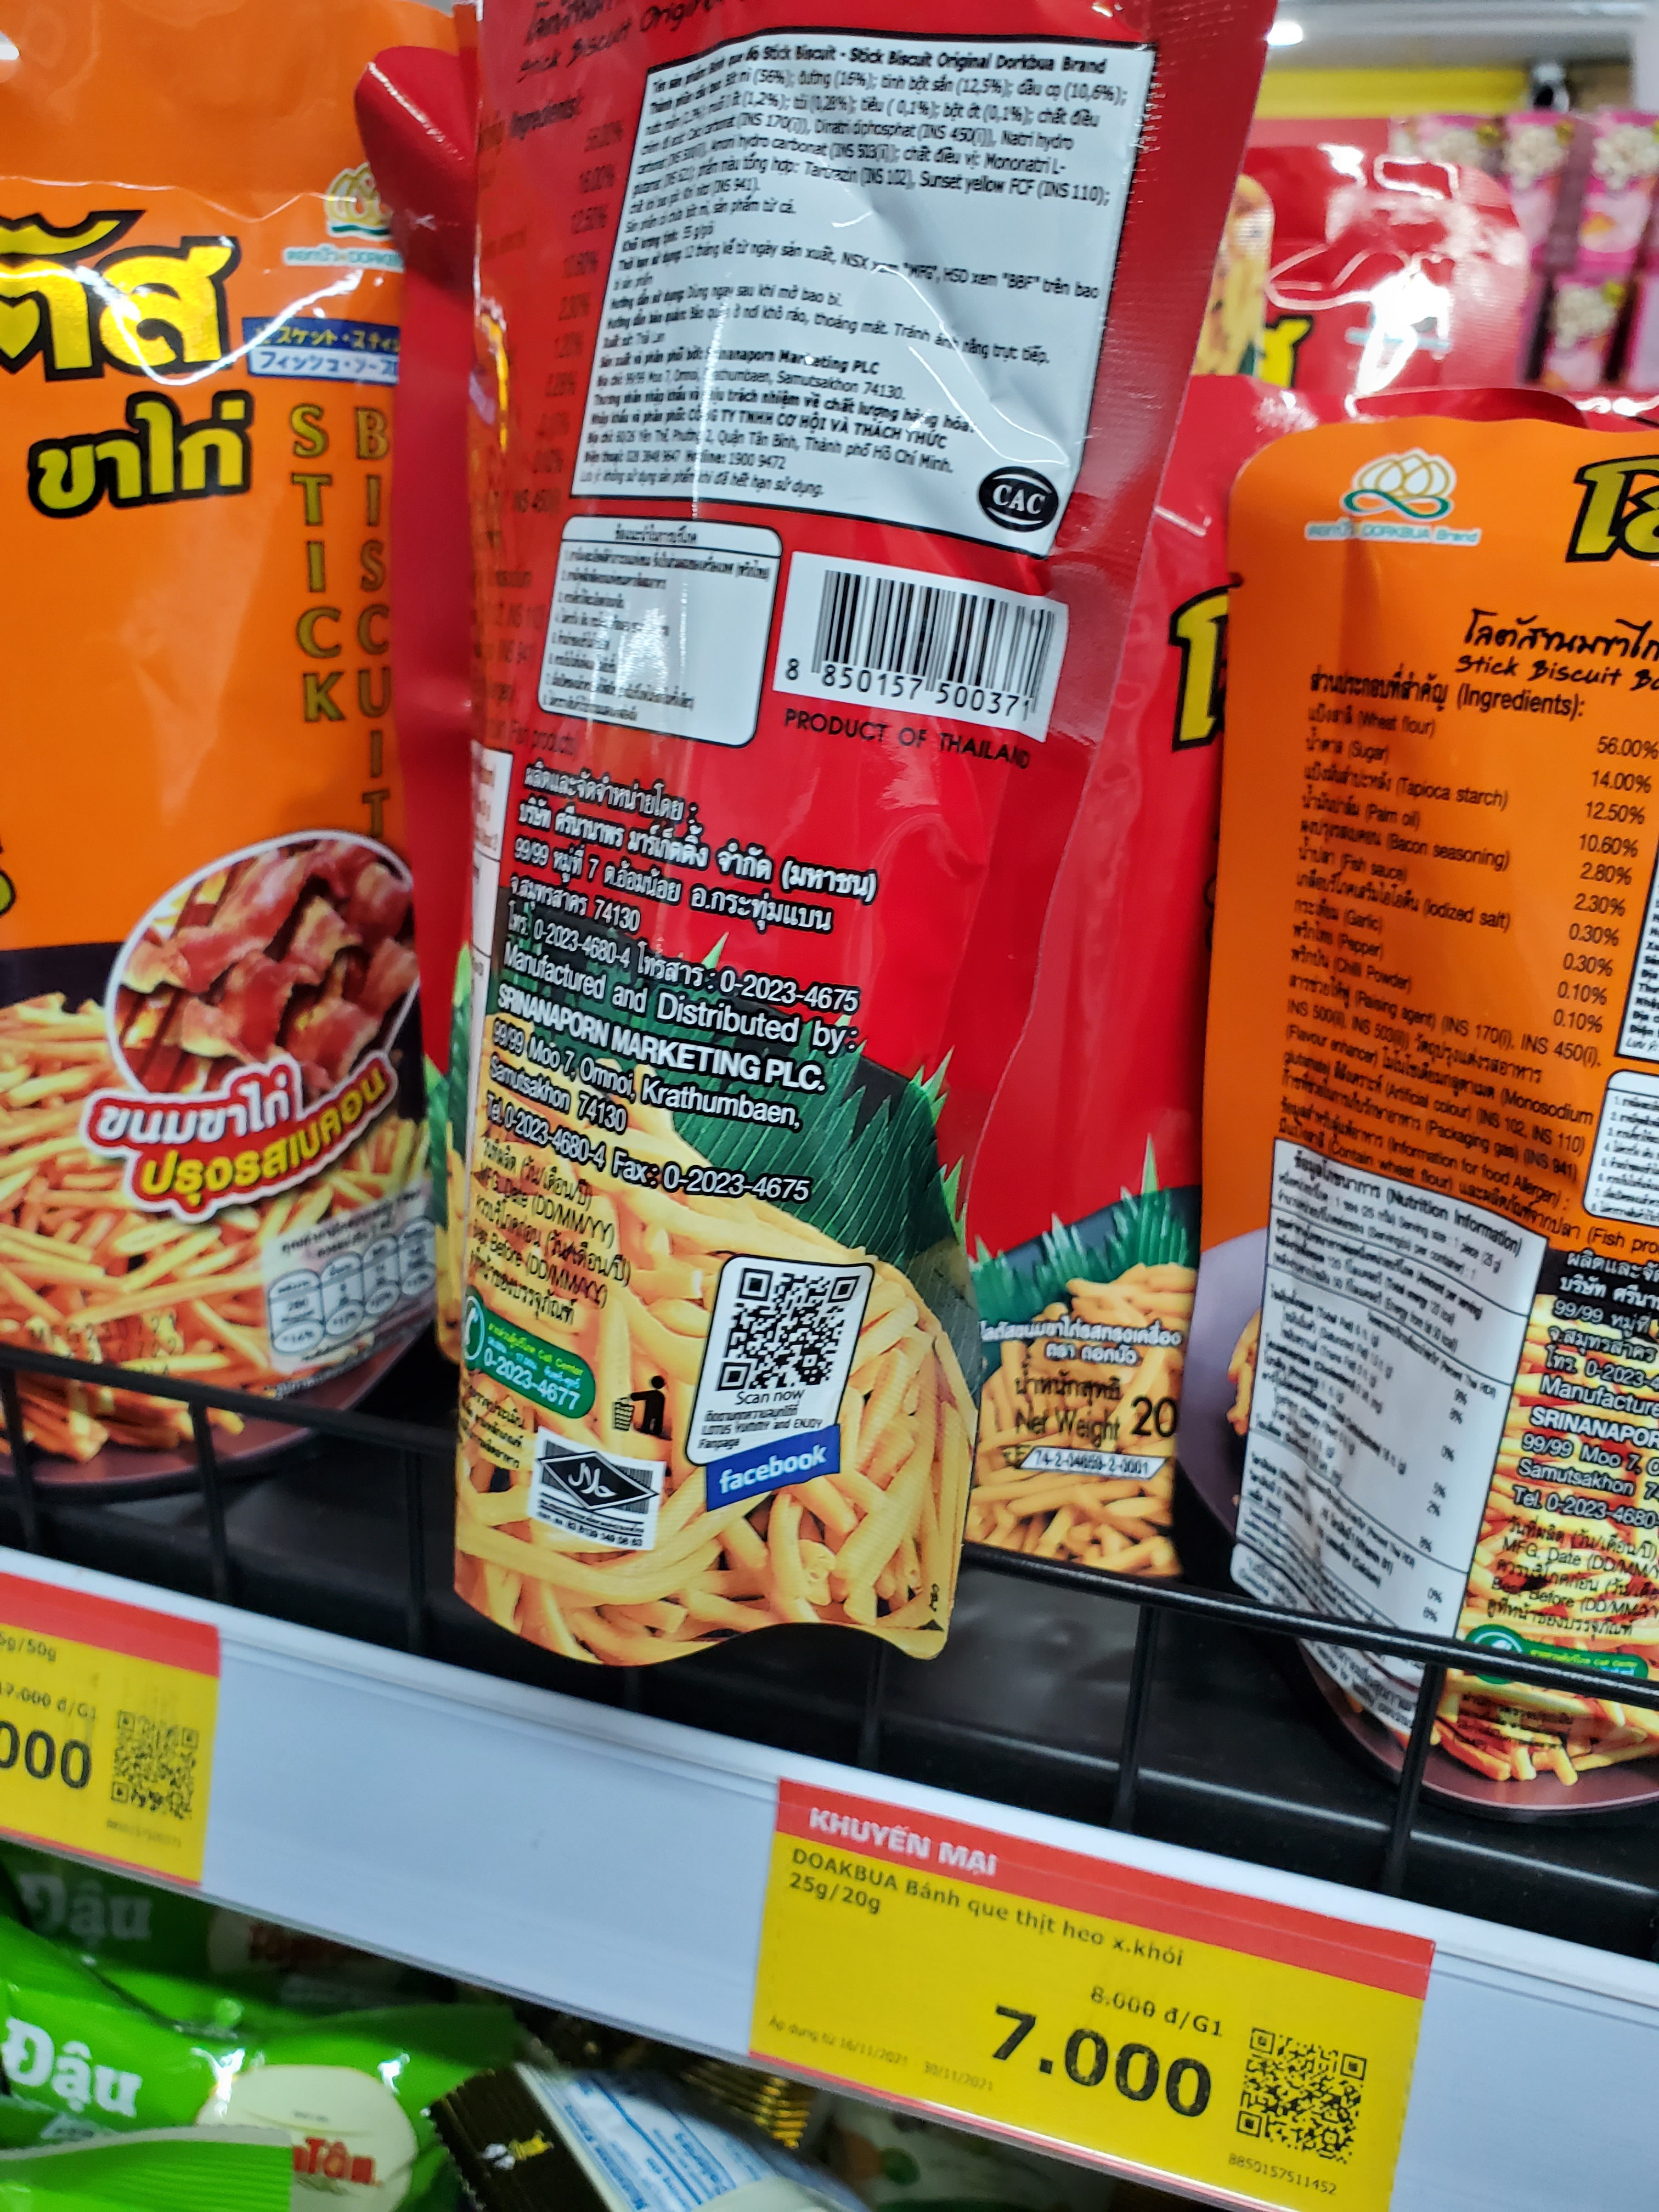barcode: (753, 543, 1080, 744)
qr code: (697, 1252, 887, 1423)
